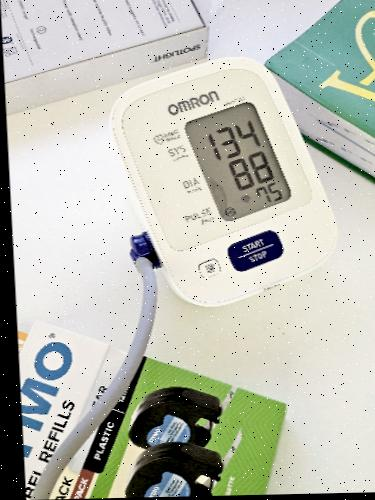bpm: (183, 95, 296, 228)
